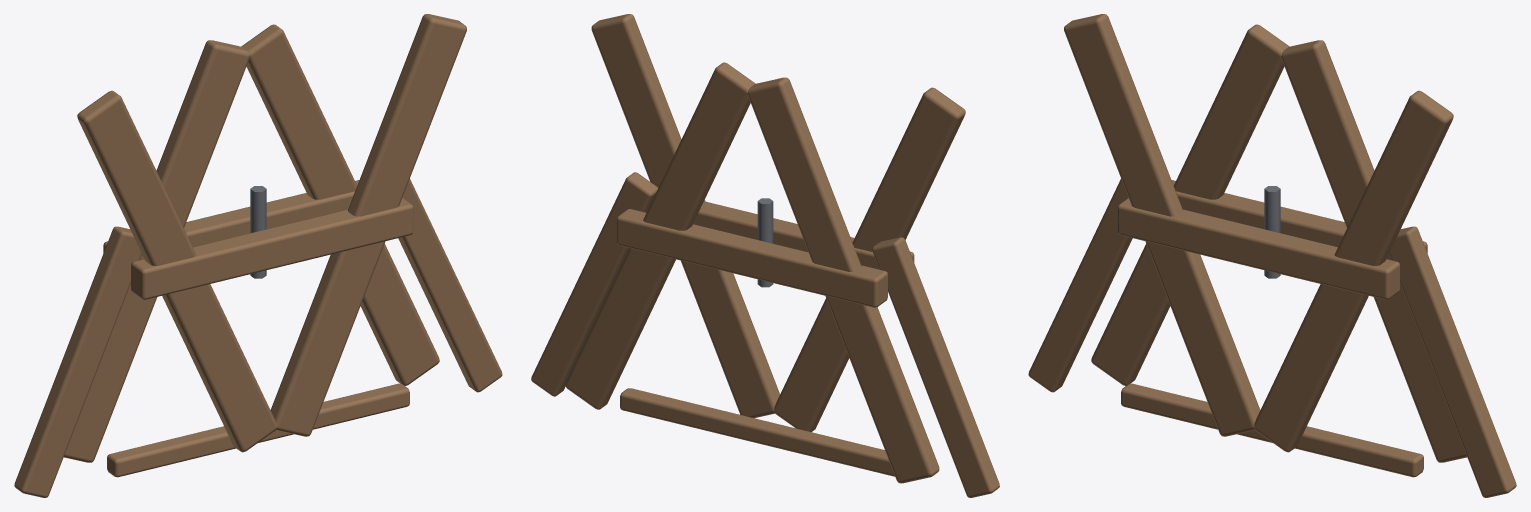
The model's file is folding-book-rest-b261fbba.glb.
The picture shows the model from 3 angles, left to right: view 1: azimuth 30°, elevation 25°; view 2: azimuth 150°, elevation 25°; view 3: azimuth 330°, elevation 25°; orthographic projection. The views are drawn at different scales.
Parts seen in each view (by area): view 1: folding-book-rest; view 2: folding-book-rest; view 3: folding-book-rest.
Part boxes in pixels (bbox=[...]): folding-book-rest: bbox=[14, 14, 502, 497]; folding-book-rest: bbox=[531, 14, 999, 497]; folding-book-rest: bbox=[1028, 14, 1516, 497].
Bounding box in the file's own units: 0.8123 × 0.6423 × 0.12.
